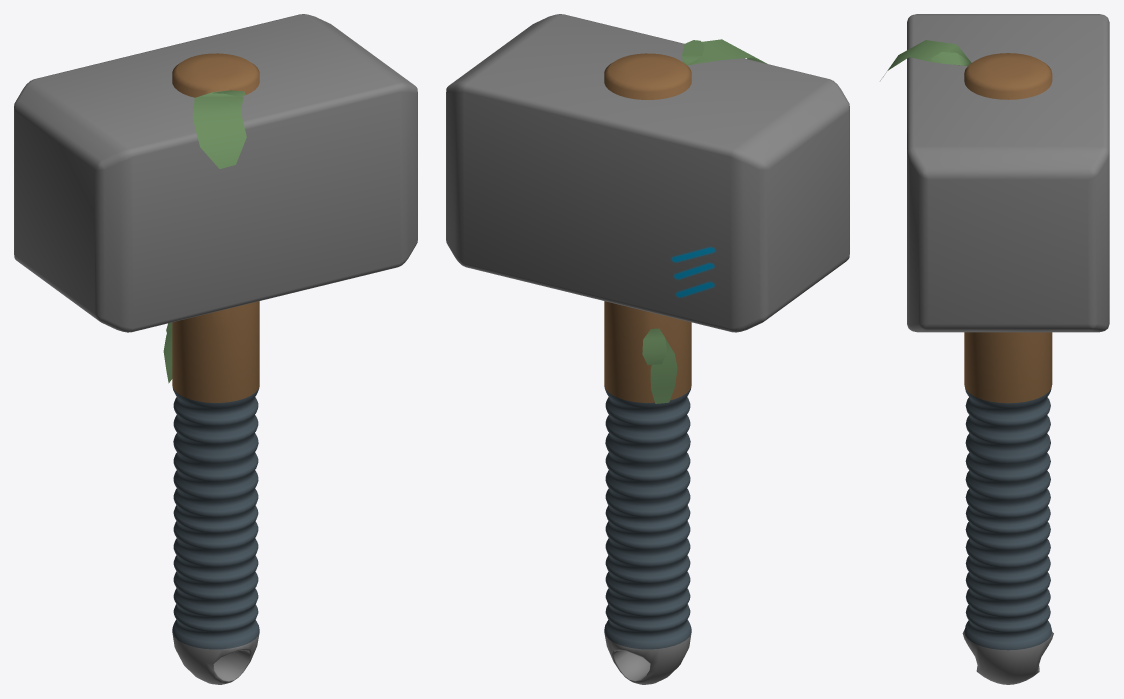
Rendered from hamer.fbx.
3 renders of one model, left to right at view 1: azimuth 30°, elevation 25°; view 2: azimuth 150°, elevation 25°; view 3: azimuth 270°, elevation 25°, orthographic.
Visible parts, largest first — view 1: hamer; view 2: hamer; view 3: hamer.
Part boxes in pixels (x1=…): hamer: x1=14, y1=14, x2=417, y2=684; hamer: x1=446, y1=14, x2=849, y2=684; hamer: x1=880, y1=14, x2=1109, y2=684.
Size of the model in its own units: 527 by 848 by 1555.
1 material, 1 textured.
